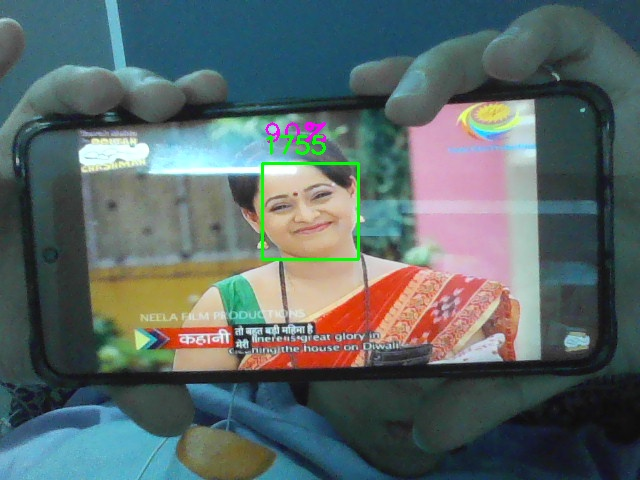fake: (262, 163, 359, 260)
